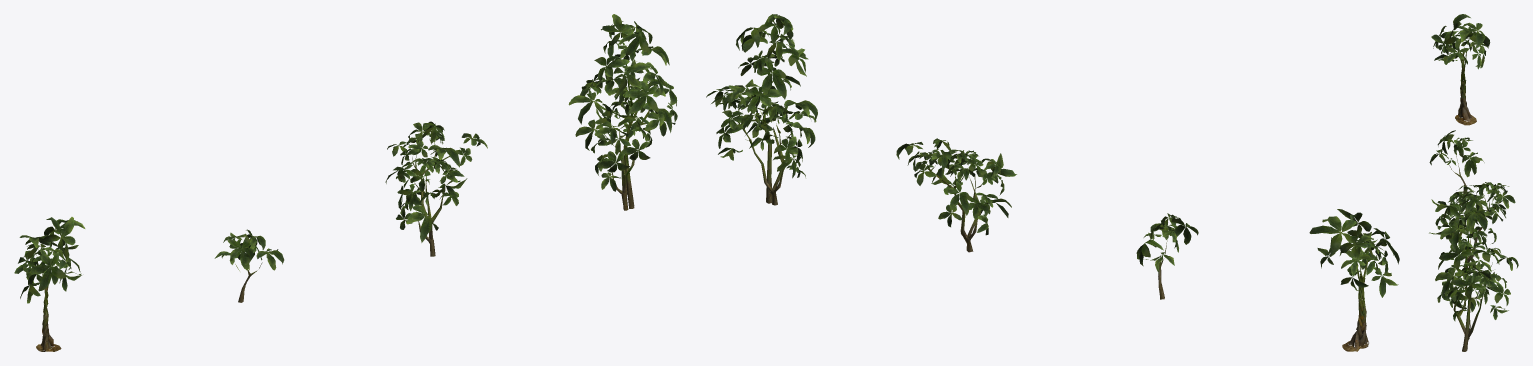
The model's file is pachira.glb.
3 renders of one model, left to right at view 1: azimuth 30°, elevation 25°; view 2: azimuth 150°, elevation 25°; view 3: azimuth 270°, elevation 25°, orthographic. The views are drawn at different scales.
Visible parts, largest first — view 1: pachira_aquatica_01_bark_a; view 2: pachira_aquatica_01_bark_a; view 3: pachira_aquatica_01_bark_a.
Part boxes in pixels (box(x1,y1,x2,y2)): pachira_aquatica_01_bark_a: box(14, 14, 677, 351); pachira_aquatica_01_bark_a: box(706, 14, 1399, 351); pachira_aquatica_01_bark_a: box(1429, 14, 1518, 351).
Size of the model in its own units: 6.87 by 1.9 by 0.9982.
Materials: 2 (2 with a texture image).
